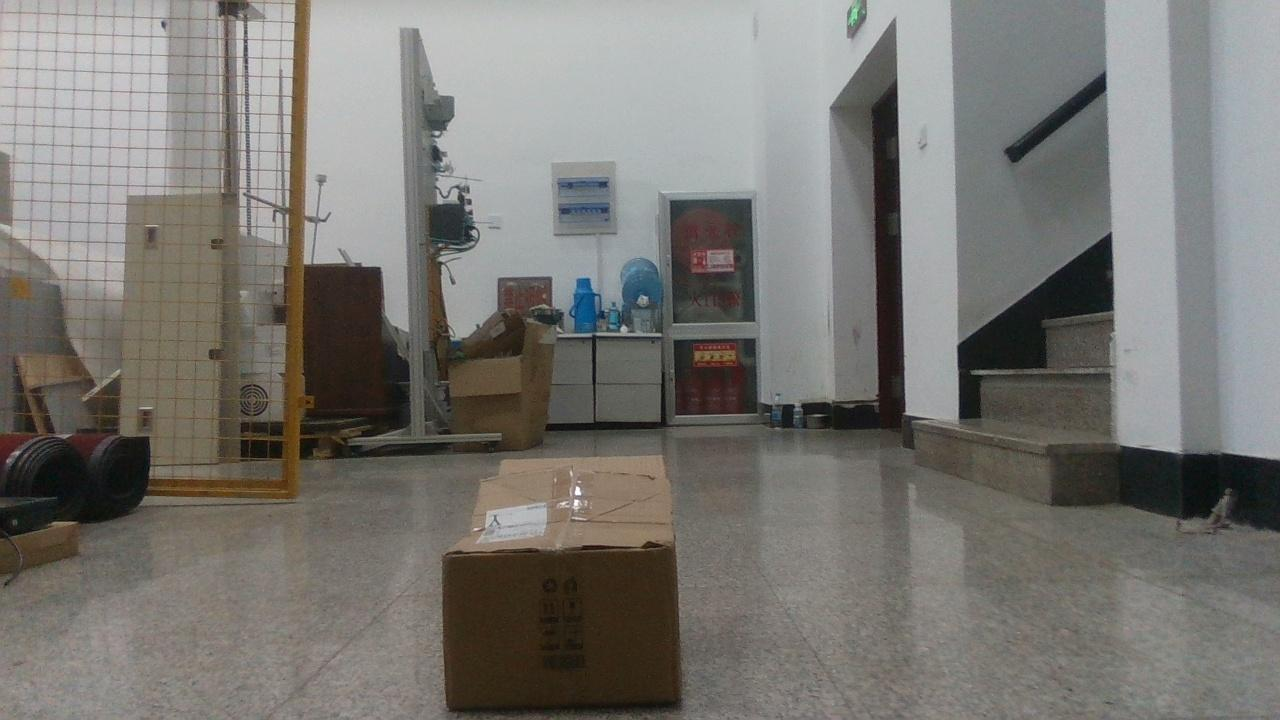box: (442, 455, 680, 710)
